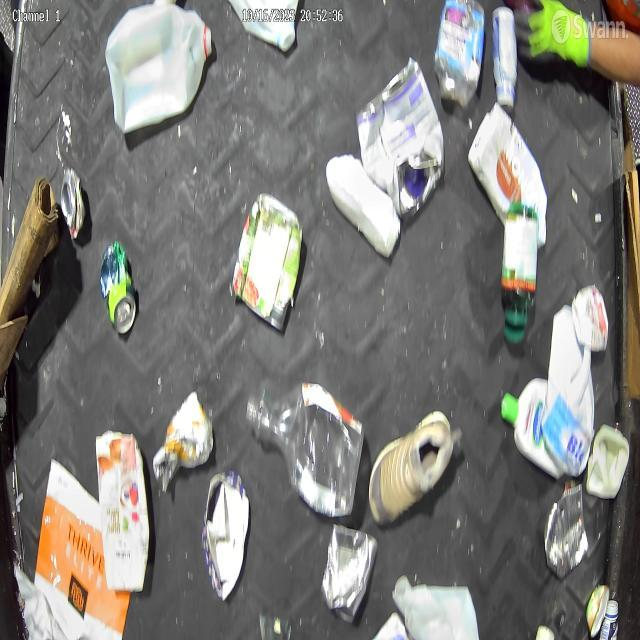can: (231, 190, 303, 332), (322, 523, 377, 626), (544, 482, 588, 578), (100, 240, 138, 334), (62, 167, 87, 240)
milk_jug: (104, 3, 212, 132), (540, 302, 594, 478), (392, 574, 479, 640)
